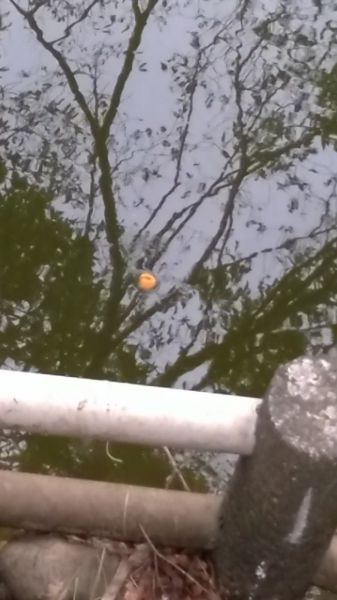eggs: (132, 269, 159, 290)
